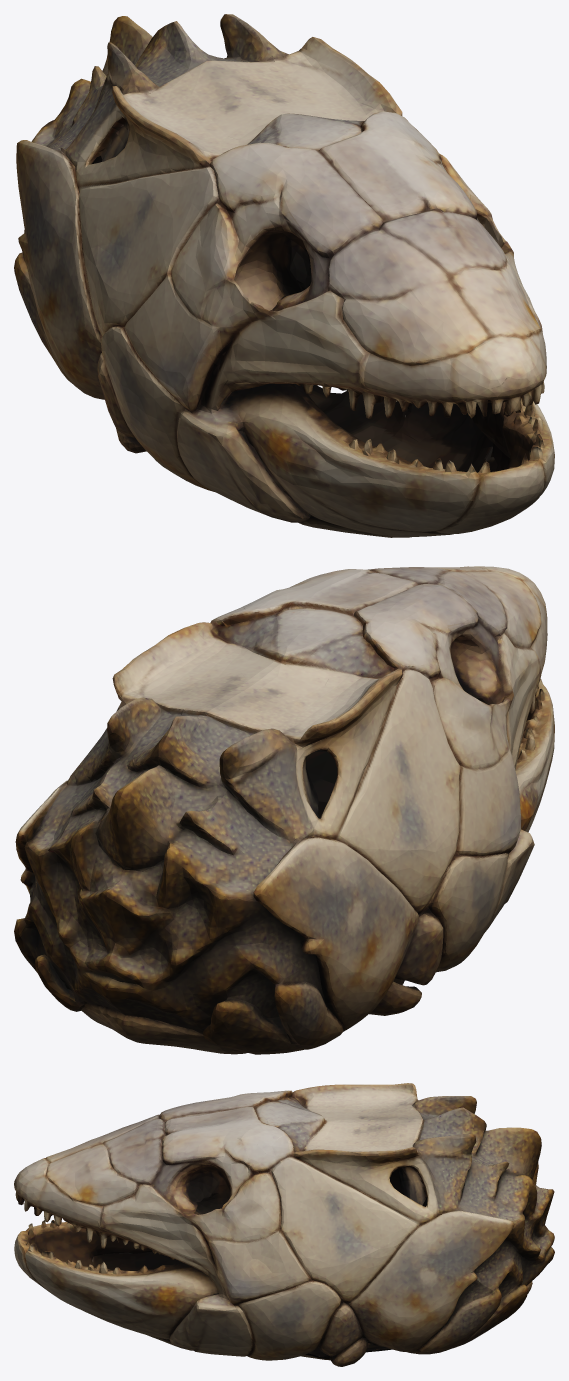
3 views of the same model, one above another, from view 1: azimuth 30°, elevation 25°; view 2: azimuth 150°, elevation 25°; view 3: azimuth 270°, elevation 25° (orthographic). The views are drawn at different scales.
Visible parts, largest first — view 1: world; view 2: world; view 3: world.
Boxes of the visible parts, box(x1,y1,x2,y2) form: world: box(14, 14, 554, 537); world: box(14, 566, 554, 1054); world: box(14, 1083, 554, 1366).
Size of the model in its own units: 0.4929 by 0.4662 by 0.9991.
1 material, 1 textured.
